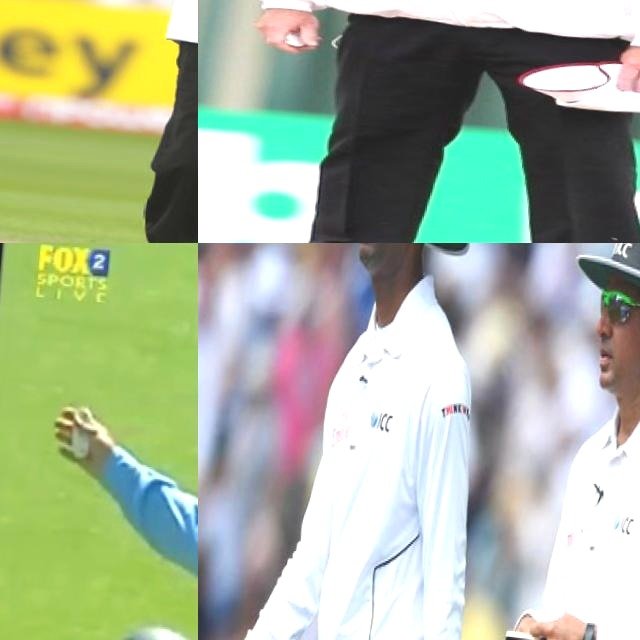No_Action: (198, 243, 520, 640), (225, 0, 640, 243), (490, 243, 640, 640)
Six: (77, 0, 198, 243)
Wide: (10, 334, 198, 640)
